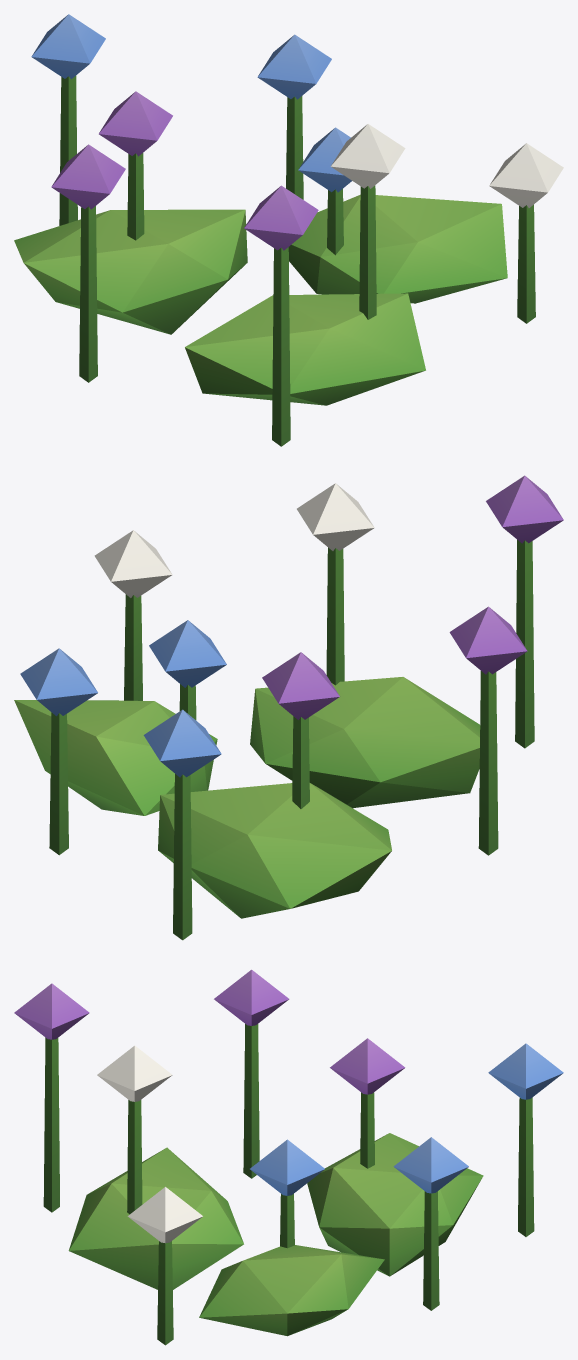
File: flowers_blue.glb
3 views of the same model, one above another, from view 1: azimuth 30°, elevation 25°; view 2: azimuth 150°, elevation 25°; view 3: azimuth 270°, elevation 25° (orthographic). The views are drawn at different scales.
Parts seen in each view (by area): view 1: flowers_blue; view 2: flowers_blue; view 3: flowers_blue.
Part boxes in pixels (x1,y1,x2,y2): flowers_blue: [14, 14, 563, 446]; flowers_blue: [14, 475, 563, 940]; flowers_blue: [14, 969, 563, 1345].
Bounding box in the file's own units: 4.53 × 2.54 × 5.22.
1 material, 1 textured.
